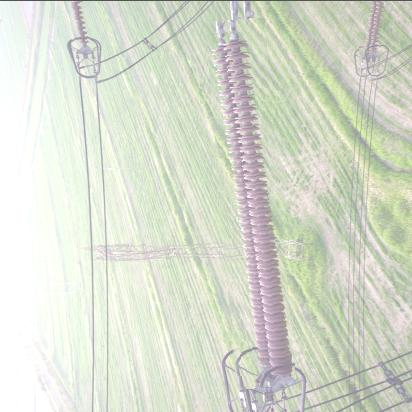insulator: (214, 19, 290, 389), (360, 1, 384, 57), (71, 1, 91, 51)
